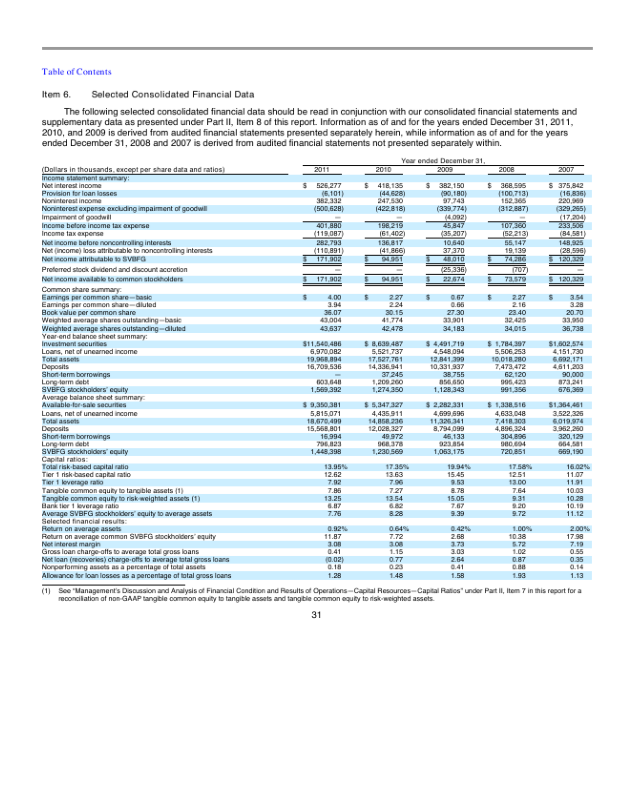table: (296, 155, 597, 578)
